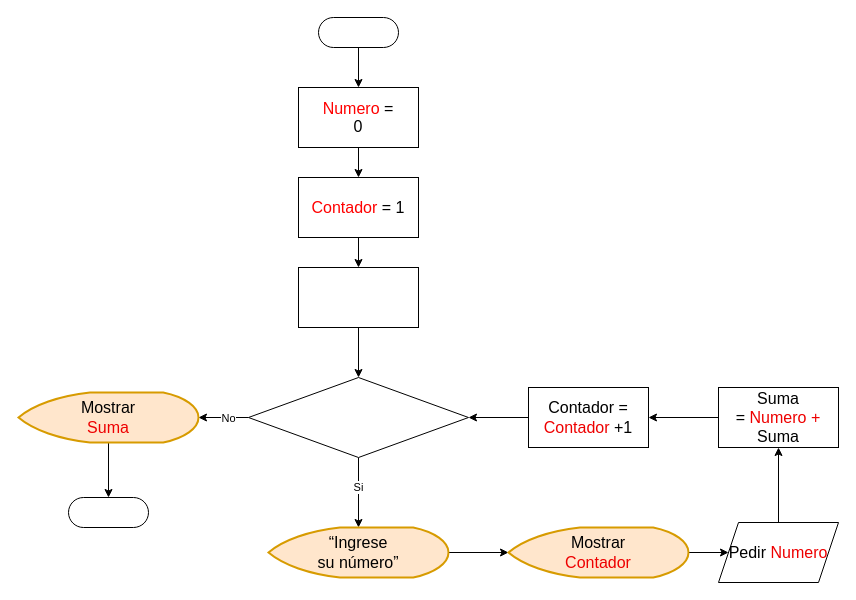
Image size: 856x600. Some labels were removed from this diagram. The shapes that lost their labels are listed below. From the top down, each one's centre as x and y in pixels, then its label:
[358,32]: Inicio
[358,297]: Suma = 0
[358,417]: Contador <= 100
[108,512]: Fin
